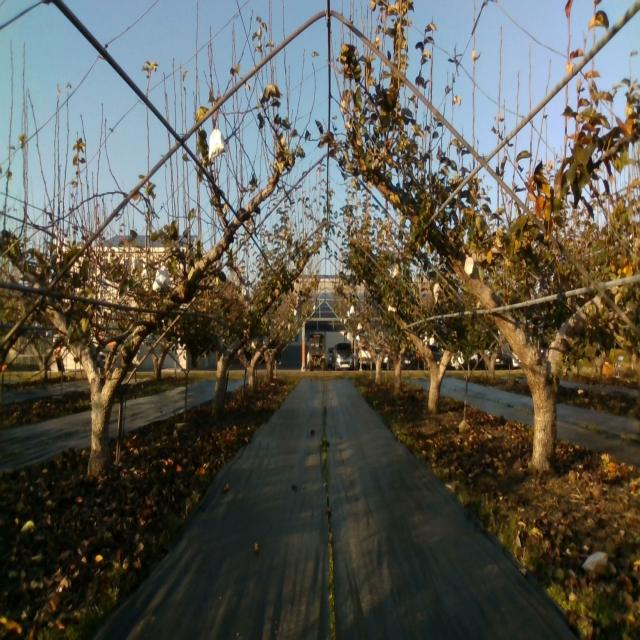pearbags: (208, 128, 228, 161), (152, 266, 171, 290), (464, 255, 477, 279)
